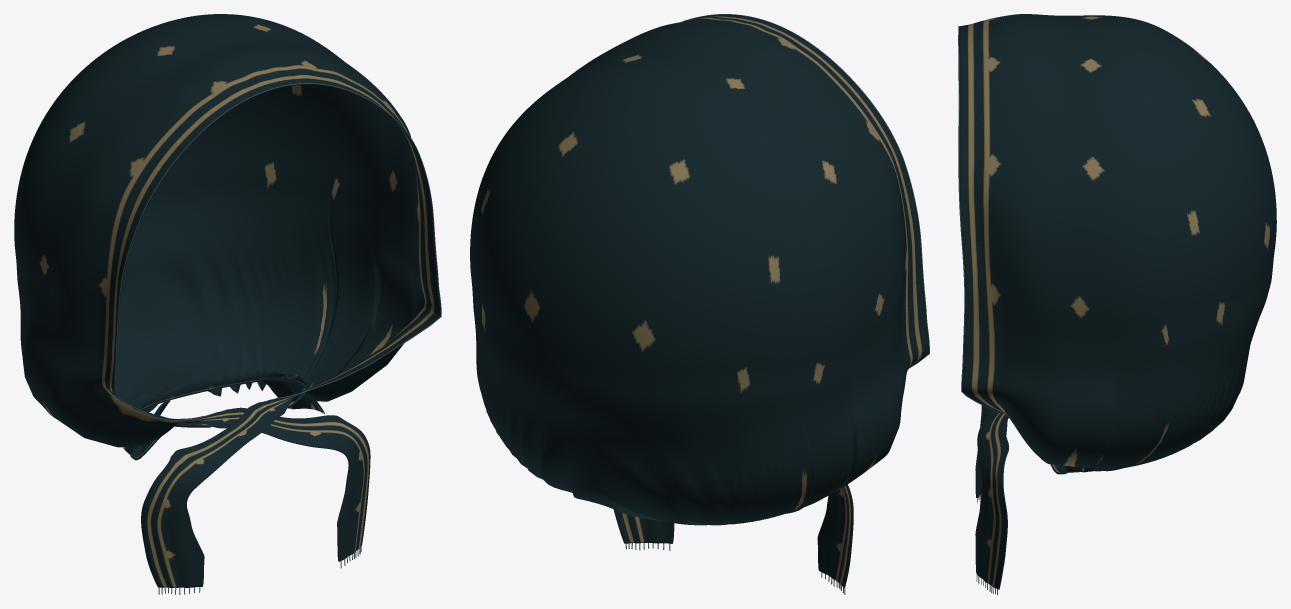
Rendered from Masculine-Masculine-flow-tshirt-pashmina250-headgear-f4e31eff.glb.
3 views of the same model, side by side, from view 1: azimuth 30°, elevation 25°; view 2: azimuth 150°, elevation 25°; view 3: azimuth 270°, elevation 25° (orthographic). The views are drawn at different scales.
Parts seen in each view (by area): view 1: 226 headgear / Headwear / continuous woven pashmina239, 226 headgear / Headwear / face edge239; view 2: 226 headgear / Headwear / continuous woven pashmina239, 226 headgear / Headwear / face edge239; view 3: 226 headgear / Headwear / continuous woven pashmina239, 226 headgear / Headwear / face edge239.
Part boxes in pixels (box(x1,y1,x2,y2)): 226 headgear / Headwear / continuous woven pashmina239: box(14, 14, 440, 587); 226 headgear / Headwear / face edge239: box(114, 83, 441, 421); 226 headgear / Headwear / continuous woven pashmina239: box(470, 14, 928, 587); 226 headgear / Headwear / face edge239: box(681, 14, 929, 368); 226 headgear / Headwear / continuous woven pashmina239: box(959, 14, 1276, 589); 226 headgear / Headwear / face edge239: box(958, 26, 1005, 413).
Size of the model in its own units: 0.9061 by 1.24 by 0.6906.
Materials: 3 (1 with a texture image).
